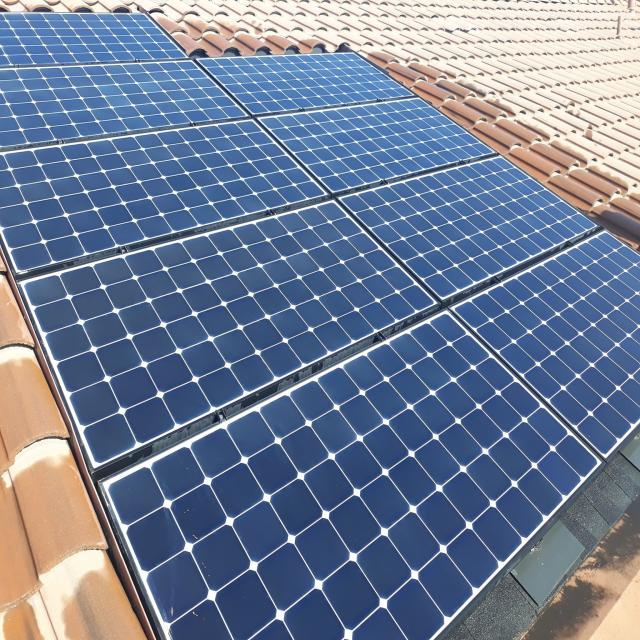clean-solar-panel: (0, 15, 640, 638)
